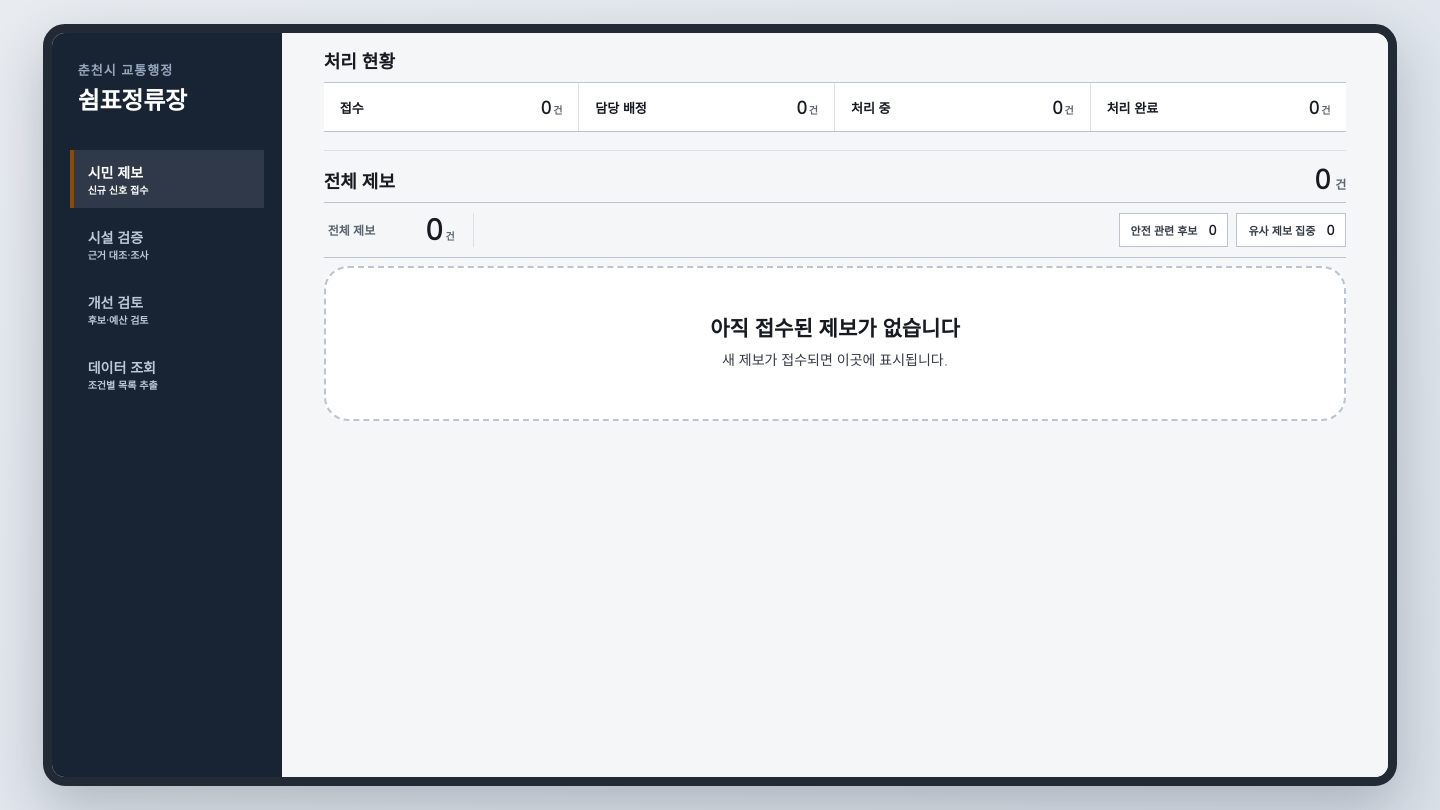
Test: <Dashboard> — (a) 탭 구조 › 2단계 탭에서 no=0(실데이터 없음)이면 '조사 반영 전 — 1단계를 먼저' 안내가 뜬다
Click the tab with aria-label "시설 개선 후보": [167, 309] box [70,280,264,338]
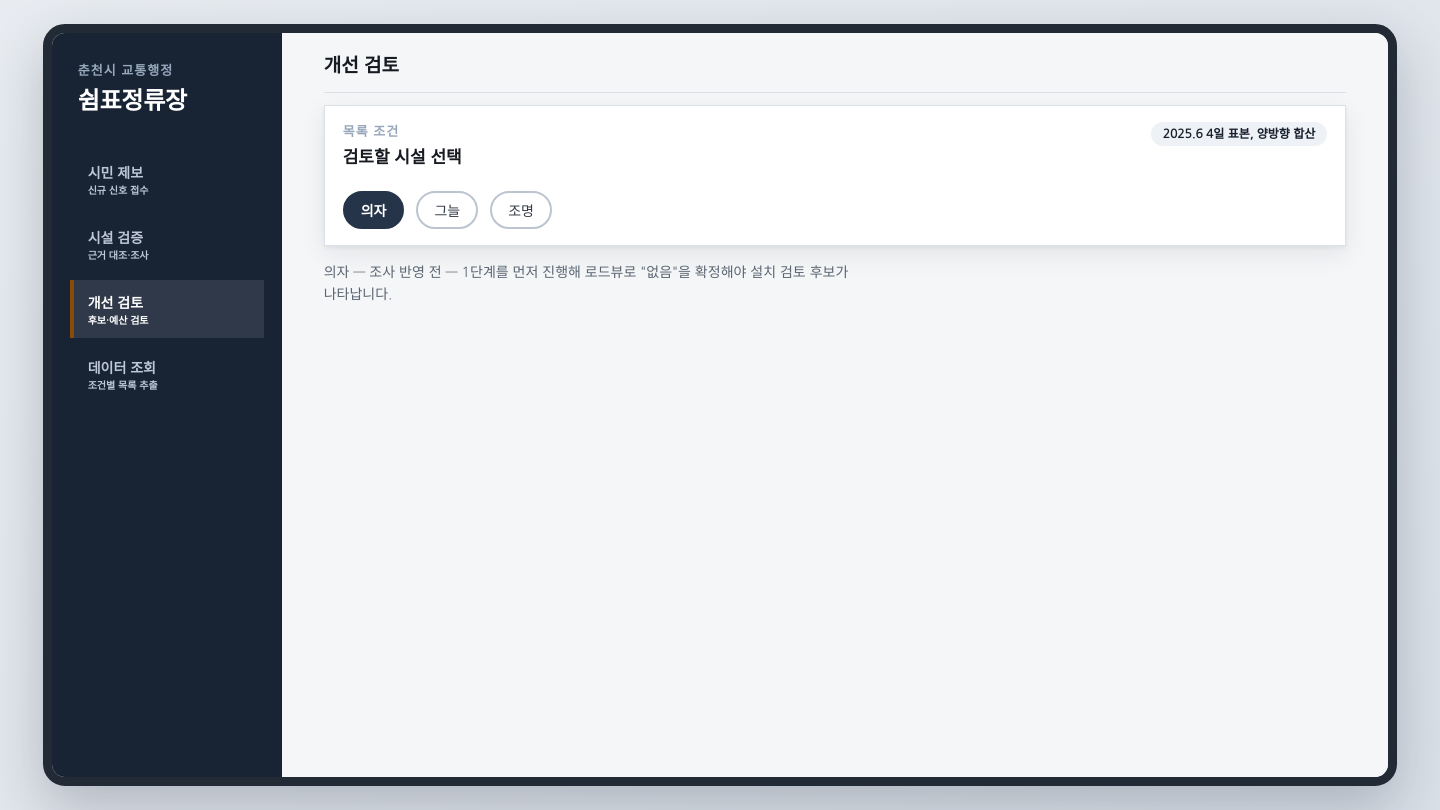
Expected: the text "의자 — 조사 반영 전 — 1단계를 먼저 진행해 로드뷰로 \"없음\"을 확정해야 설치 검토 후보가 나타납니다." is shown, [324,262,850,305]
